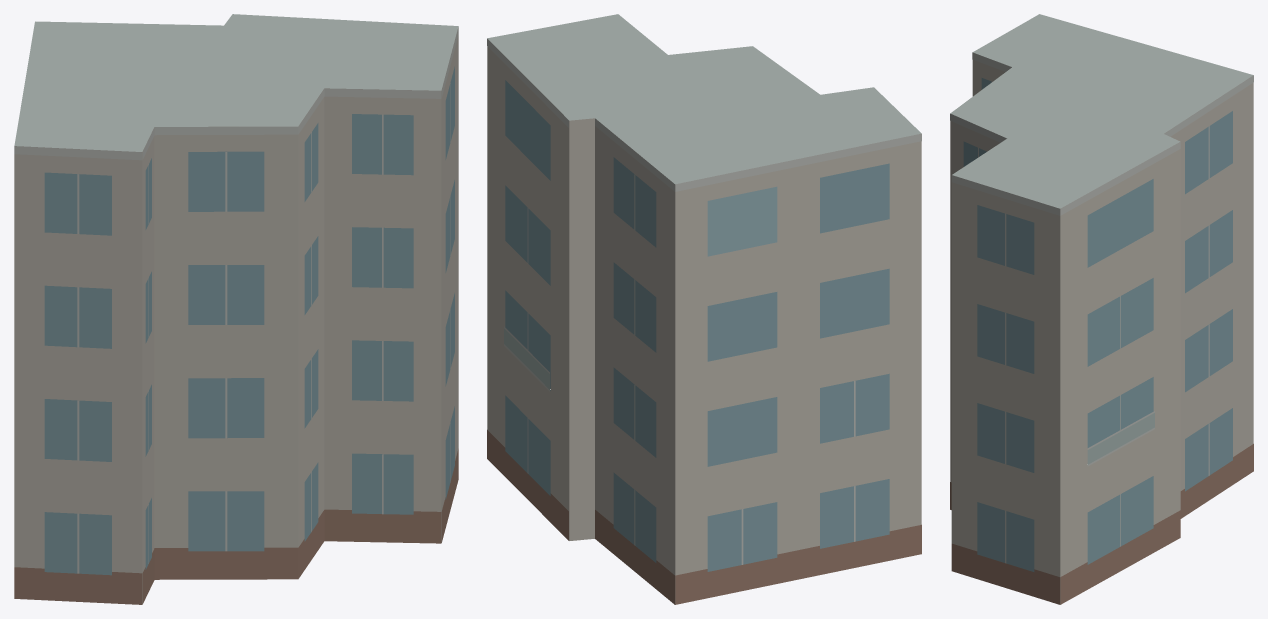
File: survey-upis-32855719.glb
3 renders of one model, left to right at view 1: azimuth 30°, elevation 25°; view 2: azimuth 150°, elevation 25°; view 3: azimuth 270°, elevation 25°, orthographic. The views are drawn at different scales.
Visible parts, largest first — view 1: survey-upis-32855719.tmp; view 2: survey-upis-32855719.tmp; view 3: survey-upis-32855719.tmp.
Boxes of the visible parts, x1,y1,x2,y2 form: survey-upis-32855719.tmp: [14, 14, 458, 604]; survey-upis-32855719.tmp: [487, 14, 921, 604]; survey-upis-32855719.tmp: [950, 14, 1253, 604].
Size of the model in its own units: 14.19 by 13.45 by 9.35.
